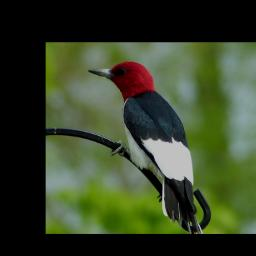Woodpecker: (86, 60, 206, 234)
